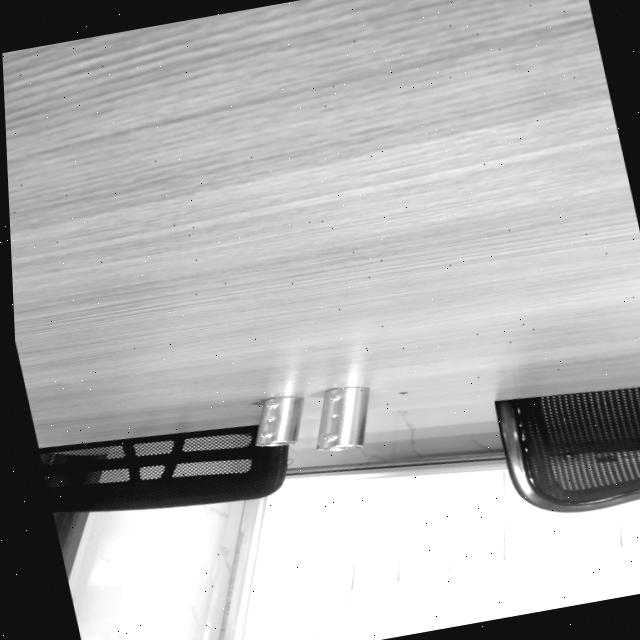Co_Lon: (315, 381, 369, 454)
Co_Nho: (254, 389, 304, 451)
